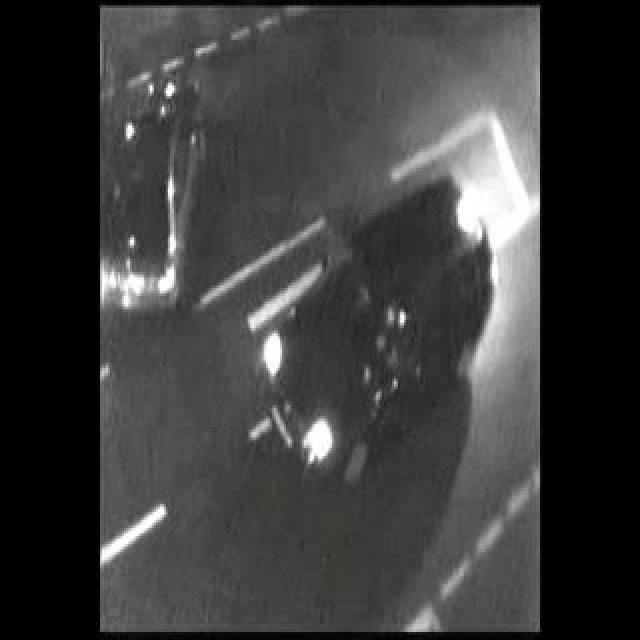road accidents: (111, 0, 411, 577)
